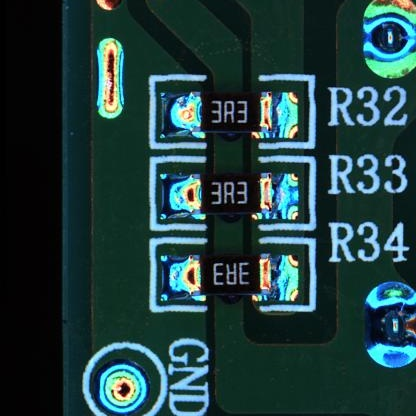spot: (361, 280, 416, 370), (362, 1, 416, 80), (92, 359, 151, 416)
